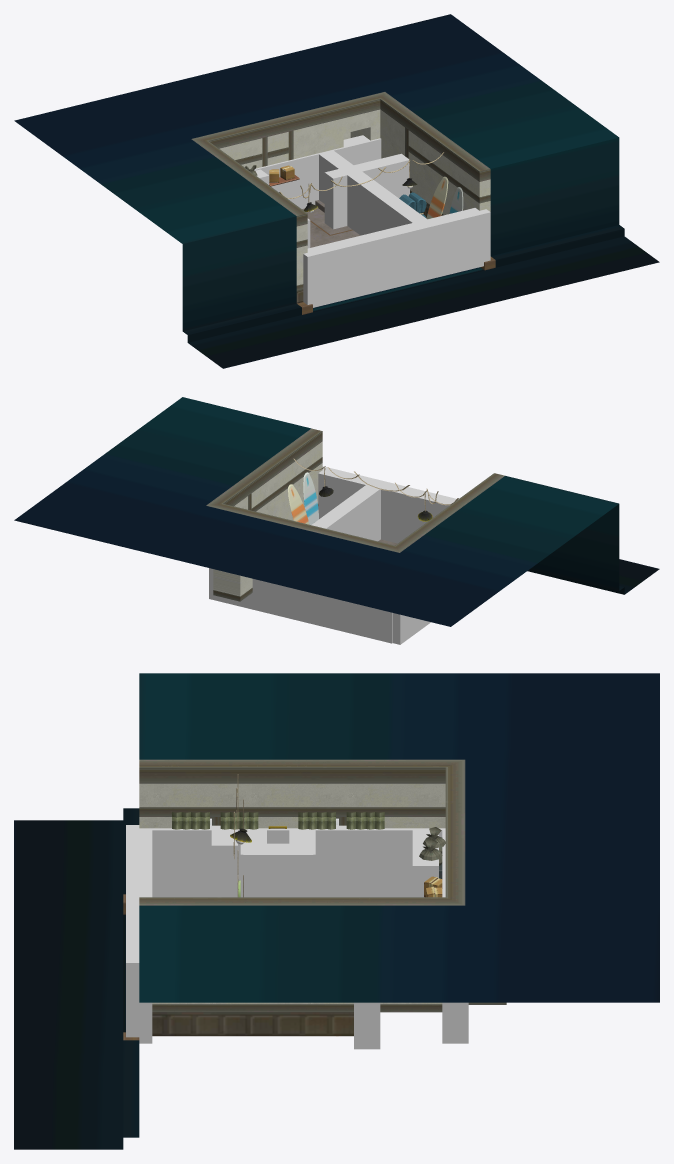
Rendered from AboutShed.glb.
3 views of the same model, one above another, from view 1: azimuth 30°, elevation 25°; view 2: azimuth 150°, elevation 25°; view 3: azimuth 270°, elevation 25° (orthographic). The views are drawn at different scales.
Parts seen in each view (by area): view 1: Scene, COLL_All3, COLL_All1, COLL_All5, COLL_All4; view 2: Scene, COLL_All4, COLL_All3, COLL_All1, COLL_All2; view 3: Scene, COLL_All2, COLL_All3, COLL_All10, COLL_All9, COLL_All4, COLL_All5, COLL_All6.
Boxes of the visible parts, x1=… form: Scene: x1=14, y1=14, x2=659, y2=368; COLL_All3: x1=303, y1=208, x2=490, y2=307; COLL_All1: x1=319, y1=150, x2=433, y2=235; COLL_All5: x1=324, y1=153, x2=409, y2=229; COLL_All4: x1=254, y1=135, x2=381, y2=208; Scene: x1=14, y1=397, x2=659, y2=626; COLL_All4: x1=209, y1=568, x2=392, y2=643; COLL_All3: x1=318, y1=466, x2=456, y2=543; COLL_All1: x1=311, y1=480, x2=384, y2=541; COLL_All2: x1=392, y1=613, x2=430, y2=644; Scene: x1=14, y1=673, x2=659, y2=1149; COLL_All2: x1=152, y1=819, x2=442, y2=897; COLL_All3: x1=126, y1=825, x2=152, y2=1043; COLL_All10: x1=243, y1=843, x2=313, y2=897; COLL_All9: x1=211, y1=827, x2=237, y2=897; COLL_All4: x1=442, y1=828, x2=468, y2=1043; COLL_All5: x1=354, y1=1002, x2=380, y2=1049; COLL_All6: x1=412, y1=828, x2=438, y2=897.
Size of the model in its own units: 58.94 by 12.25 by 48.87.
Materials: 17 (17 with a texture image).
